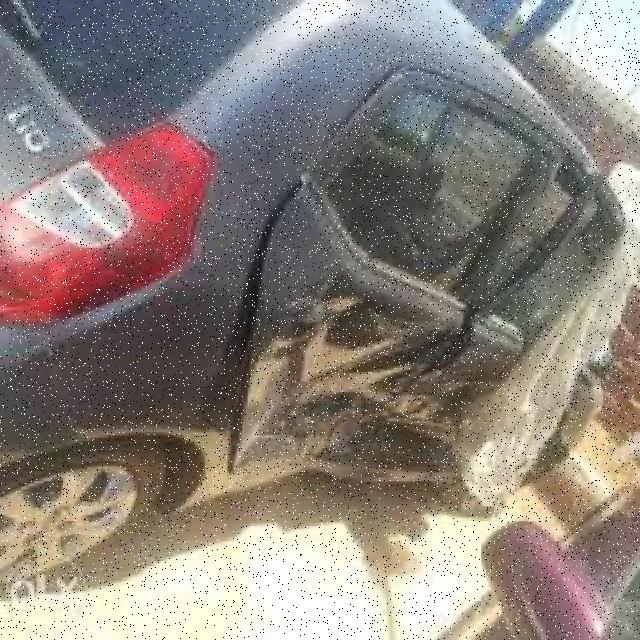damage: (211, 185, 583, 485)
